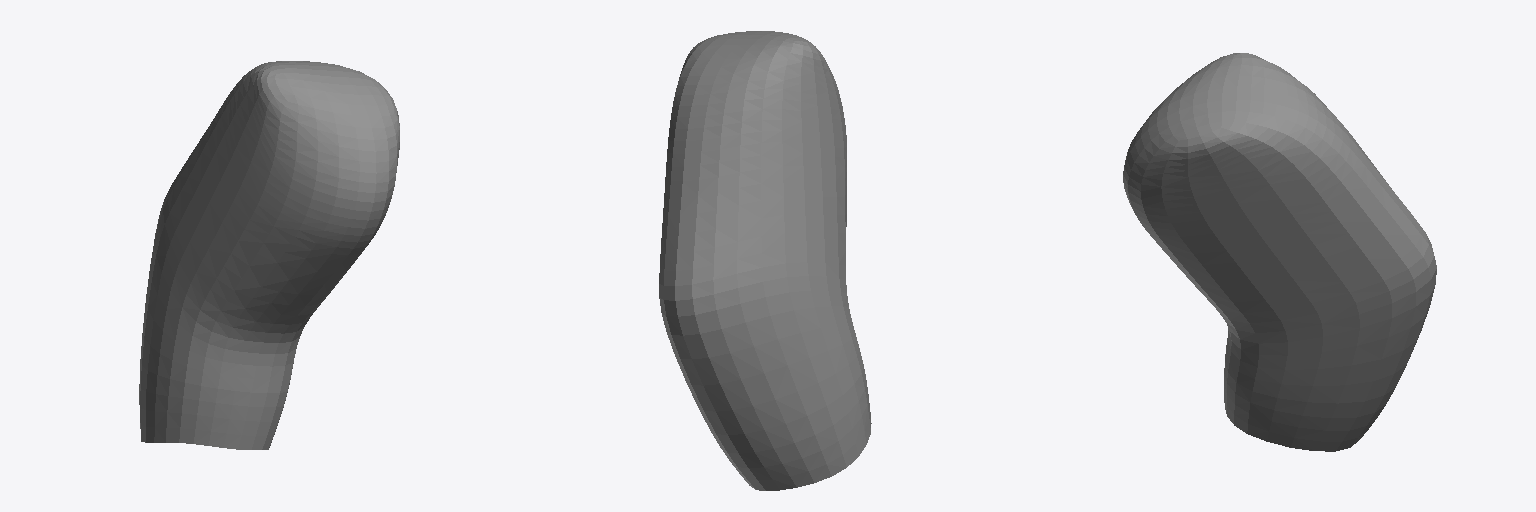
File: BrazoDer.obj
3 renders of one model, left to right at view 1: azimuth 30°, elevation 25°; view 2: azimuth 150°, elevation 25°; view 3: azimuth 270°, elevation 25°, orthographic.
Parts seen in each view (by area): view 1: BrazoDer; view 2: BrazoDer; view 3: BrazoDer.
Boxes of the visible parts, box(x1,y1,x2,y2) form: BrazoDer: box(139, 61, 399, 449); BrazoDer: box(659, 31, 871, 490); BrazoDer: box(1123, 53, 1436, 451).
Size of the model in its own units: 8.82 by 16.8 by 11.95.